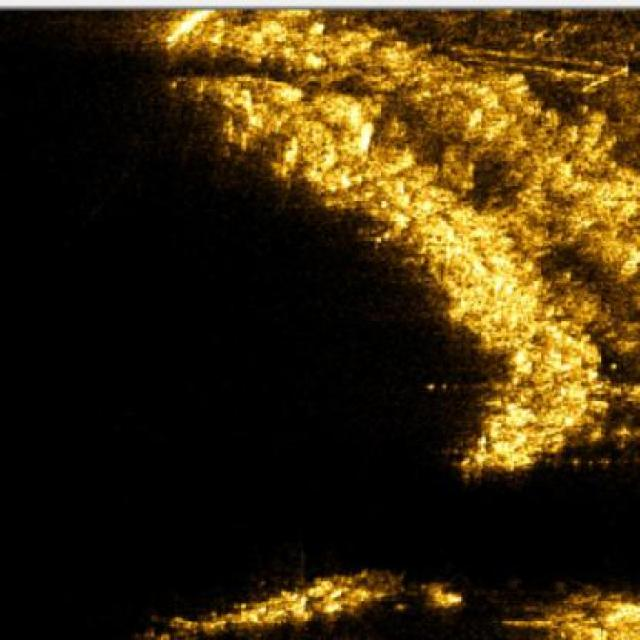bedrock group: (115, 1, 639, 639)
